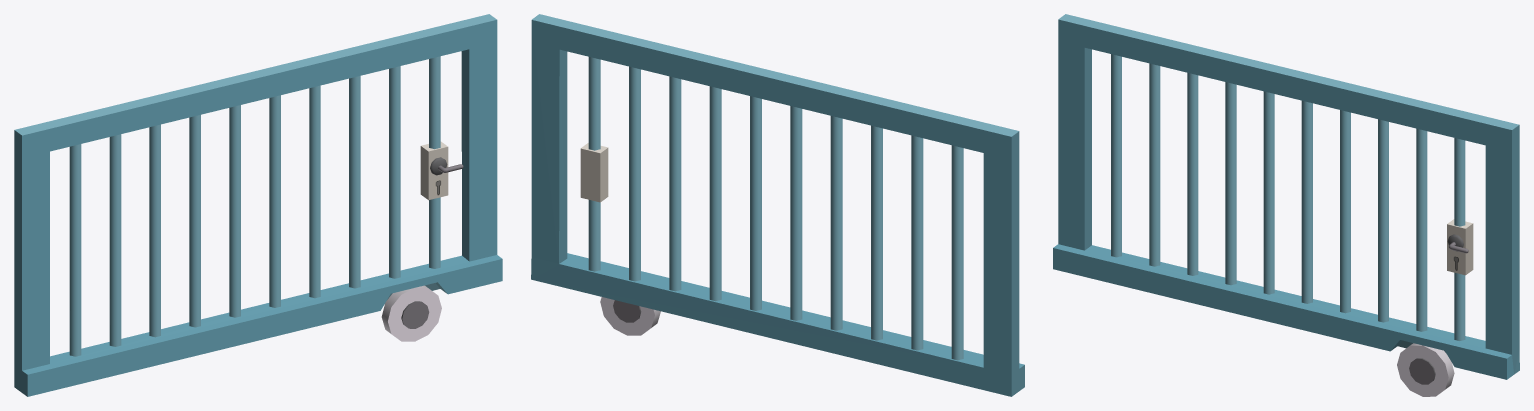
Rendered from Truck_door.FBX.
3 renders of one model, left to right at view 1: azimuth 30°, elevation 25°; view 2: azimuth 150°, elevation 25°; view 3: azimuth 330°, elevation 25°, orthographic. The views are drawn at different scales.
Parts seen in each view (by area): view 1: Plane029; view 2: Plane029; view 3: Plane029.
Boxes of the visible parts, x1=… form: Plane029: x1=14, y1=14, x2=502, y2=396; Plane029: x1=531, y1=14, x2=1024, y2=396; Plane029: x1=1053, y1=14, x2=1519, y2=396.
Size of the model in its own units: 107 by 5.92 by 63.71.
